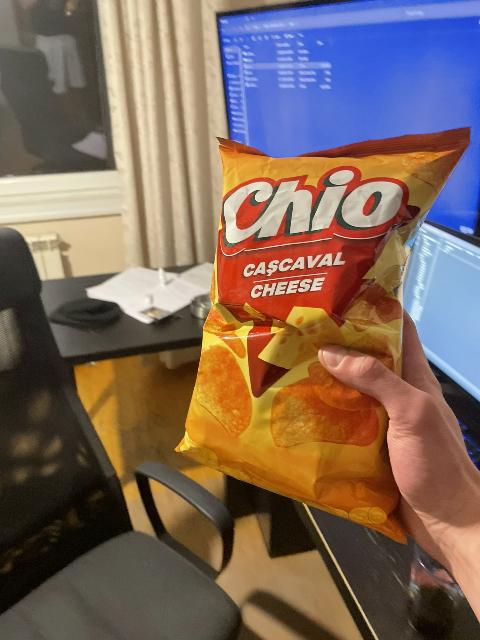Chio Cascaval 125g: (168, 123, 474, 546)
